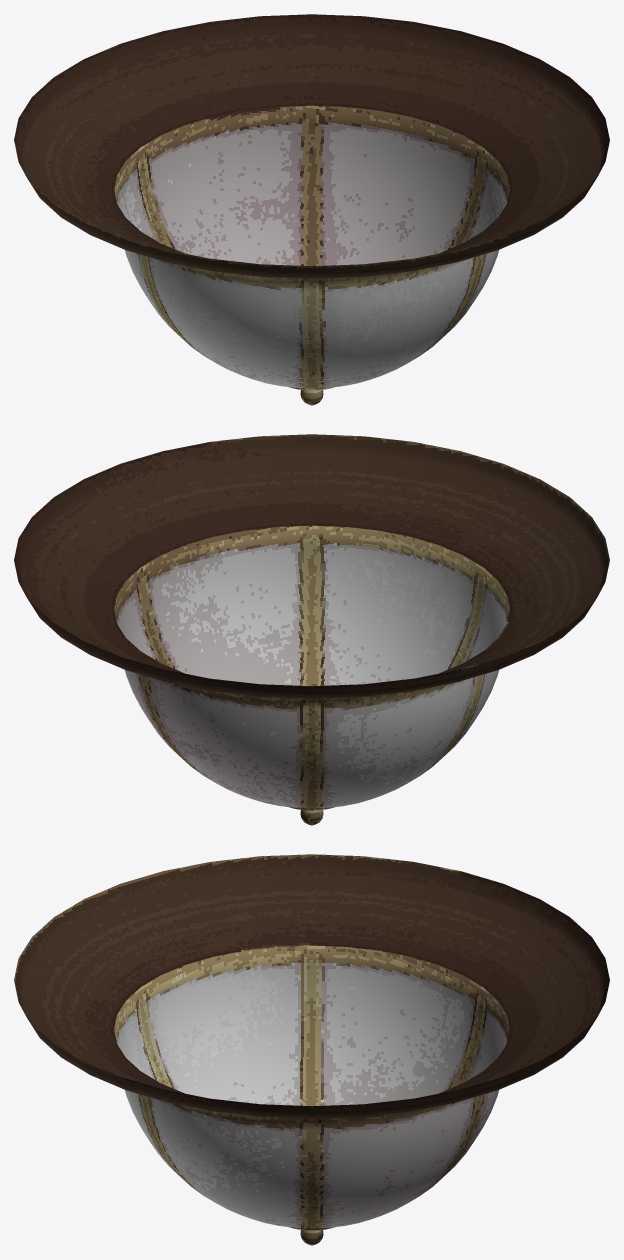
File: lamp_dome.glb
3 renders of one model, top to bottom at view 1: azimuth 30°, elevation 25°; view 2: azimuth 150°, elevation 25°; view 3: azimuth 270°, elevation 25°, orthographic.
Visible parts, largest first — view 1: mesh; view 2: mesh; view 3: mesh.
Part boxes in pixels (bbox=[...]): mesh: bbox=[14, 14, 609, 405]; mesh: bbox=[14, 434, 609, 825]; mesh: bbox=[14, 854, 609, 1245].
Bounding box in the file's own units: 0.5087 × 0.25 × 0.5087.
Materials: 1 (1 with a texture image).
